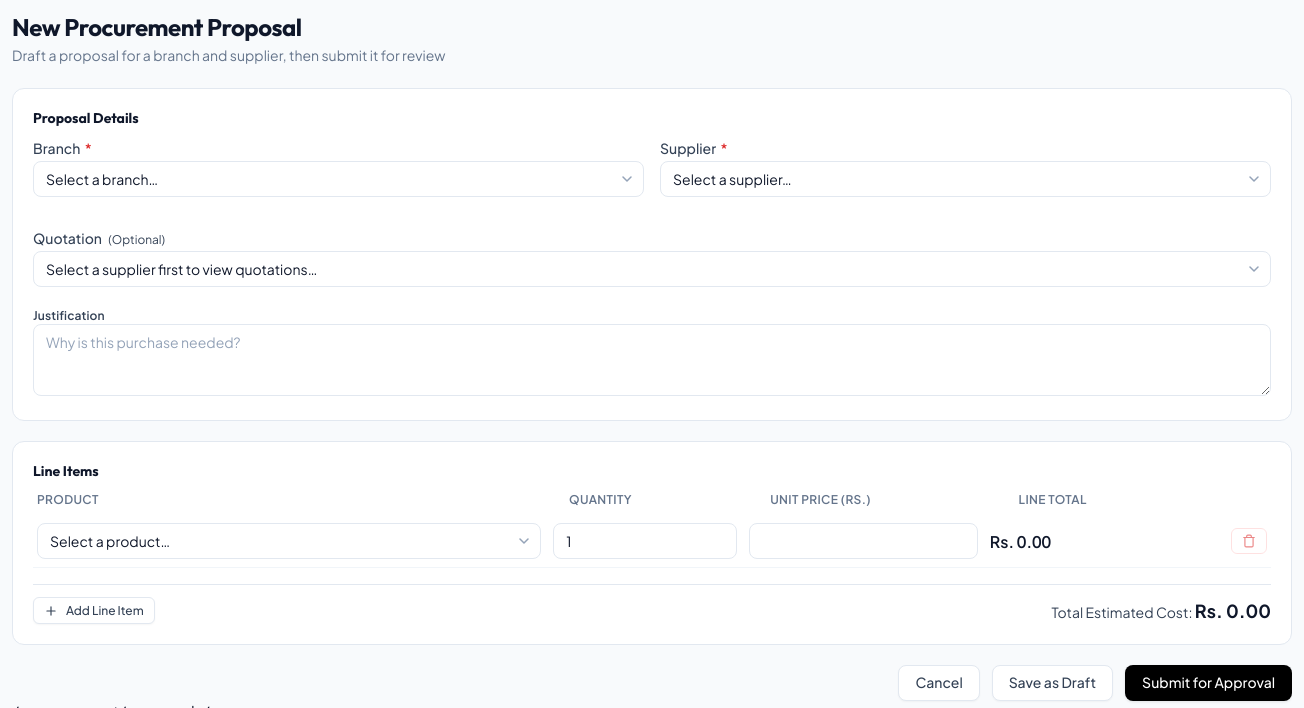
NewProposalForm validation › reports every required field and sends nothing when submitted empty
The width and height of the screenshot is (1304, 708).
Click the button "Submit for Approval": (1209, 683) [1125,665,1292,700]
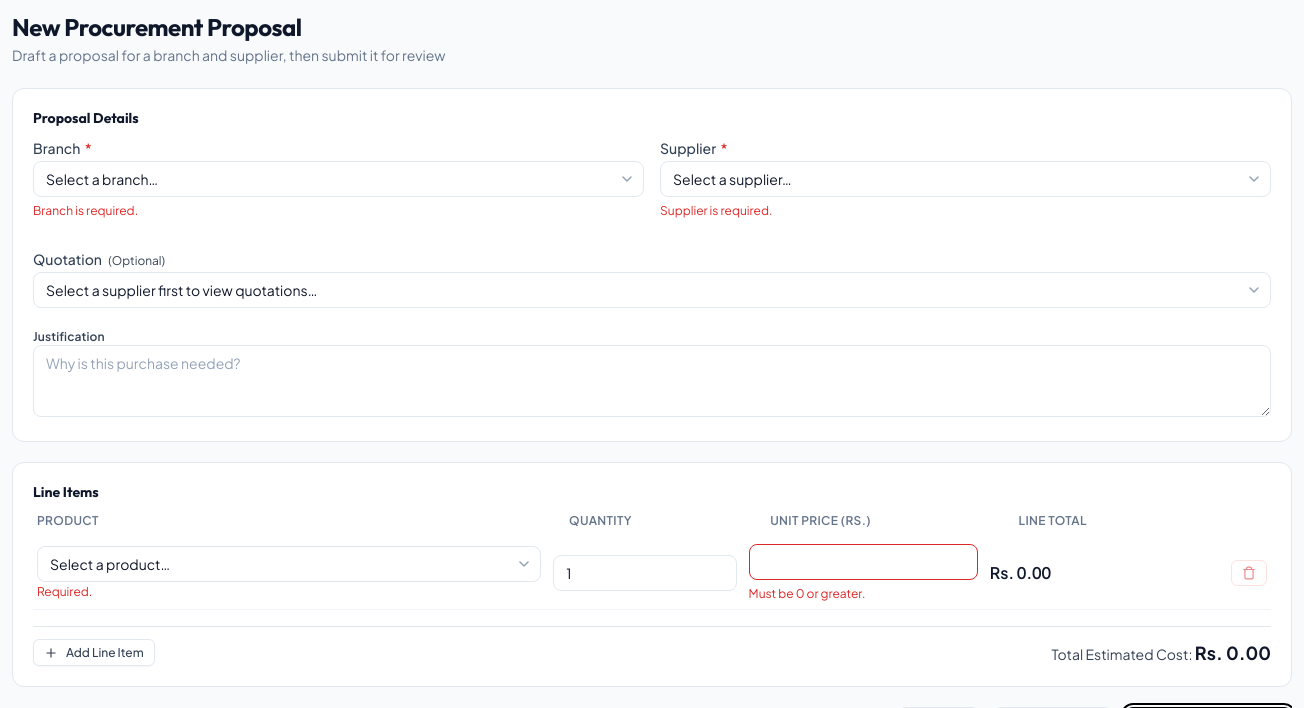
Now the text "Branch is required." is shown, box [33,203,138,218]
Now the text "Supplier is required." is shown, box [660,203,772,218]
Now the text "Required." is shown, box [37,584,92,599]
